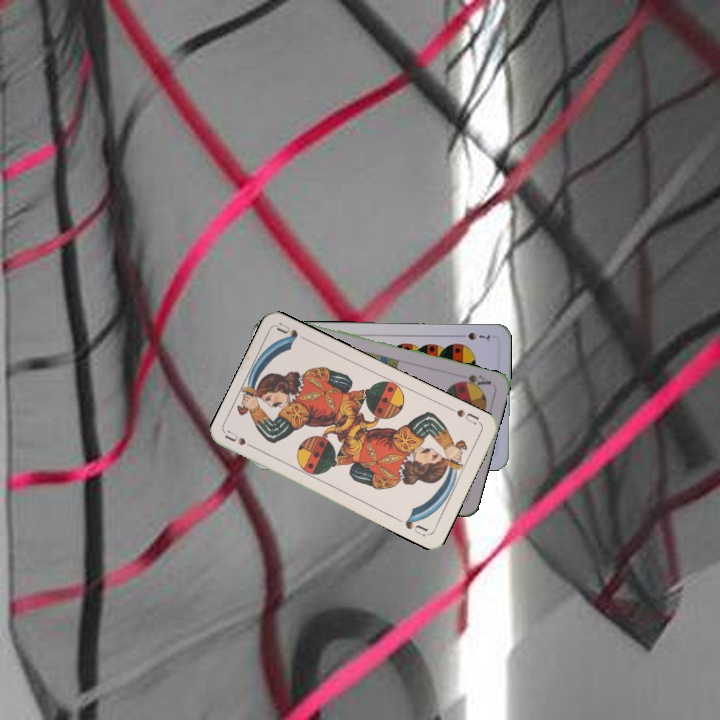S7: (454, 328, 493, 343)
SA: (453, 370, 494, 391)
SU: (222, 427, 261, 453), (445, 404, 481, 427)
